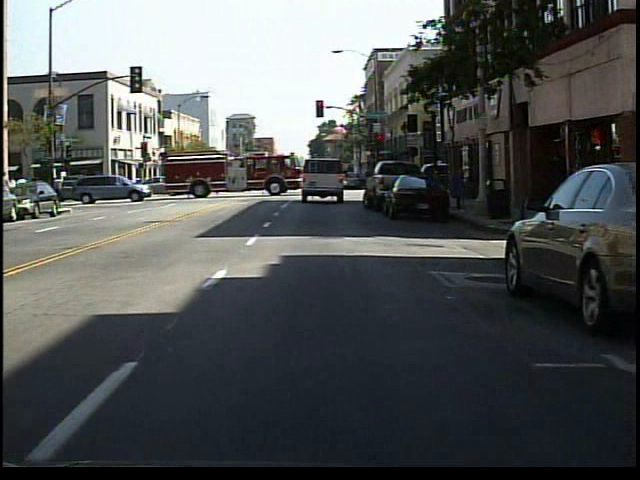person: (50, 172, 67, 208)
